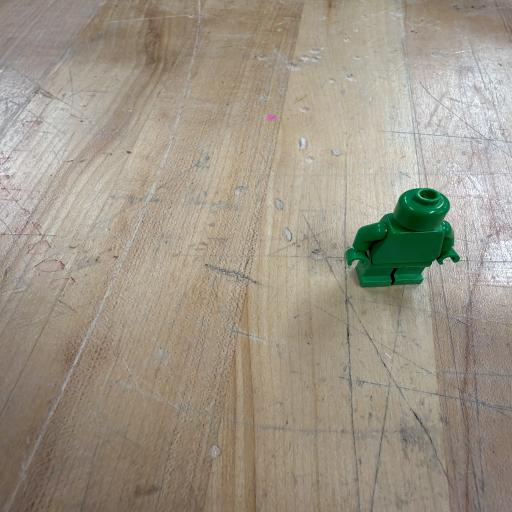Green-Lego: (345, 188, 460, 287)
